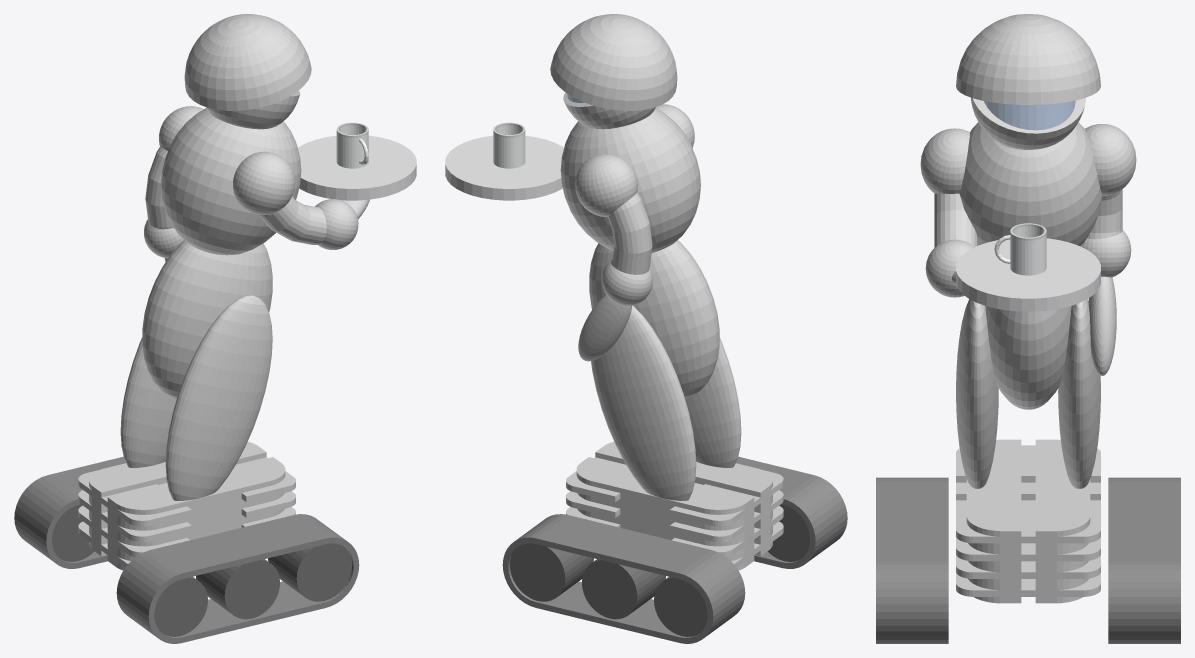
Rendered from Robot.glb.
3 renders of one model, left to right at view 1: azimuth 30°, elevation 25°; view 2: azimuth 150°, elevation 25°; view 3: azimuth 270°, elevation 25°, orthographic. The views are drawn at different scales.
Parts seen in each view (by area): view 1: VisualSceneNode1.032, VisualSceneNode1.031, VisualSceneNode1.029, VisualSceneNode1.030, VisualSceneNode1.009, VisualSceneNode1.024, VisualSceneNode1.022, VisualSceneNode1.034, VisualSceneNode1.010, VisualSceneNode1.014, VisualSceneNode1.012, VisualSceneNode1.017 (+19 smaller); view 2: VisualSceneNode1.034, VisualSceneNode1.031, VisualSceneNode1.030, VisualSceneNode1.029, VisualSceneNode1.008, VisualSceneNode1.024, VisualSceneNode1.023, VisualSceneNode1.032, VisualSceneNode1.021, VisualSceneNode1.020, VisualSceneNode1.017, VisualSceneNode1.012 (+18 smaller); view 3: VisualSceneNode1.031, VisualSceneNode1.030, VisualSceneNode1.024, VisualSceneNode1.029, VisualSceneNode1.032, VisualSceneNode1.009, VisualSceneNode1.008, VisualSceneNode1.011, VisualSceneNode1.016, VisualSceneNode1.022, VisualSceneNode1.023, VisualSceneNode1.034 (+16 smaller).
Boxes of the visible parts, x1=… form: VisualSceneNode1.032: x1=165, y1=295, x2=272, y2=500; VisualSceneNode1.031: x1=161, y1=108, x2=301, y2=255; VisualSceneNode1.029: x1=142, y1=240, x2=272, y2=398; VisualSceneNode1.030: x1=184, y1=14, x2=311, y2=110; VisualSceneNode1.009: x1=107, y1=457, x2=285, y2=570; VisualSceneNode1.024: x1=298, y1=135, x2=416, y2=200; VisualSceneNode1.022: x1=150, y1=515, x2=325, y2=579; VisualSceneNode1.034: x1=120, y1=337, x2=176, y2=467; VisualSceneNode1.010: x1=196, y1=559, x2=279, y2=619; VisualSceneNode1.014: x1=268, y1=543, x2=351, y2=601; VisualSceneNode1.012: x1=116, y1=550, x2=181, y2=643; VisualSceneNode1.017: x1=14, y1=475, x2=79, y2=568; VisualSceneNode1.034: x1=591, y1=305, x2=696, y2=500; VisualSceneNode1.031: x1=560, y1=108, x2=700, y2=252; VisualSceneNode1.030: x1=550, y1=14, x2=677, y2=110; VisualSceneNode1.029: x1=589, y1=240, x2=719, y2=398; VisualSceneNode1.008: x1=576, y1=457, x2=754, y2=570; VisualSceneNode1.024: x1=445, y1=135, x2=563, y2=200; VisualSceneNode1.023: x1=536, y1=515, x2=711, y2=579; VisualSceneNode1.032: x1=685, y1=337, x2=741, y2=467; VisualSceneNode1.021: x1=582, y1=559, x2=665, y2=619; VisualSceneNode1.020: x1=510, y1=543, x2=593, y2=601; VisualSceneNode1.017: x1=680, y1=550, x2=745, y2=643; VisualSceneNode1.012: x1=782, y1=475, x2=847, y2=568; VisualSceneNode1.031: x1=959, y1=122, x2=1102, y2=245; VisualSceneNode1.030: x1=956, y1=14, x2=1100, y2=104; VisualSceneNode1.024: x1=956, y1=238, x2=1100, y2=311; VisualSceneNode1.029: x1=985, y1=306, x2=1071, y2=409; VisualSceneNode1.032: x1=956, y1=299, x2=998, y2=488; VisualSceneNode1.009: x1=966, y1=439, x2=1021, y2=603; VisualSceneNode1.008: x1=1035, y1=439, x2=1090, y2=603; VisualSceneNode1.011: x1=876, y1=561, x2=948, y2=643; VisualSceneNode1.016: x1=1108, y1=561, x2=1180, y2=643; VisualSceneNode1.022: x1=876, y1=481, x2=948, y2=561; VisualSceneNode1.023: x1=1108, y1=481, x2=1180, y2=561; VisualSceneNode1.034: x1=1058, y1=299, x2=1100, y2=488.
Bounding box in the file's own units: 1.18 × 1.87 × 0.84.
